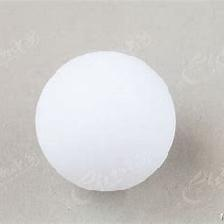WhiteBall: (35, 51, 175, 191)
